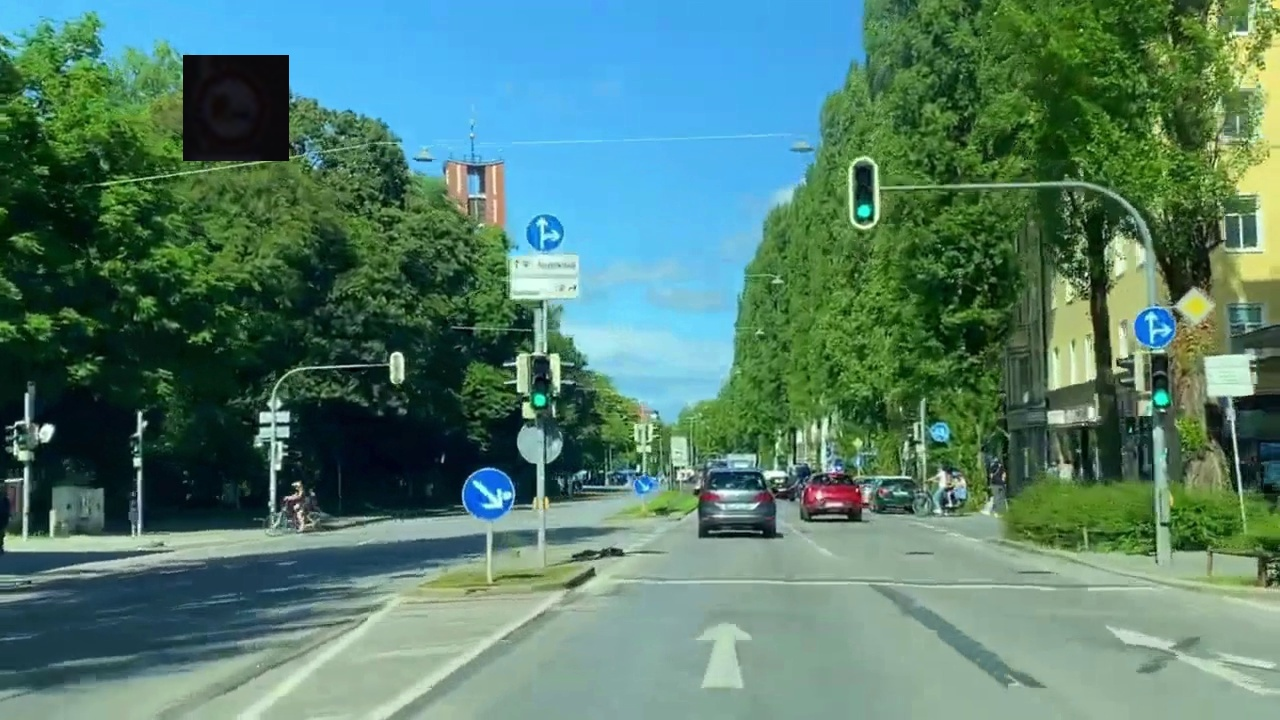No pass >3.5t: (183, 55, 289, 161)
